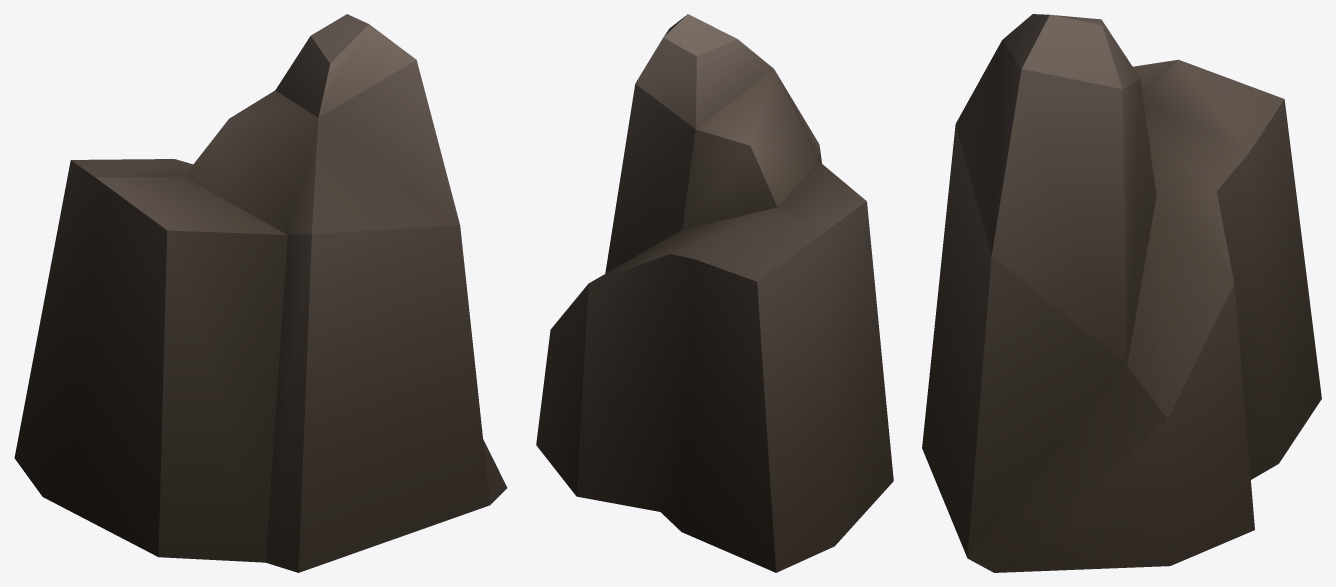
Rendered from rock05_mdl.FBX.
3 renders of one model, left to right at view 1: azimuth 30°, elevation 25°; view 2: azimuth 150°, elevation 25°; view 3: azimuth 270°, elevation 25°, orthographic. The views are drawn at different scales.
Visible parts, largest first — view 1: rock5; view 2: rock5; view 3: rock5.
Part boxes in pixels (<box>): rock5: <box>14,14,507,572</box>; rock5: <box>536,14,893,572</box>; rock5: <box>922,14,1321,572</box>.
Size of the model in its own units: 8.99 by 11.38 by 8.23.
1 material, 1 textured.
